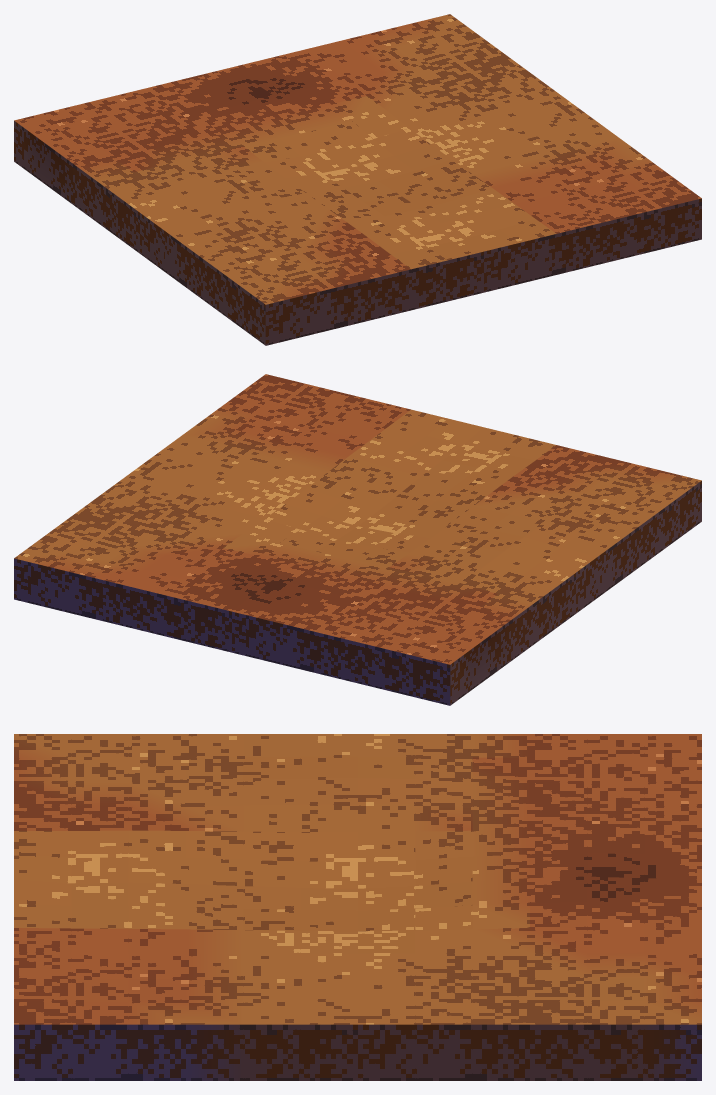
Rendered from planet.trail__end.glb.
3 renders of one model, top to bottom at view 1: azimuth 30°, elevation 25°; view 2: azimuth 150°, elevation 25°; view 3: azimuth 270°, elevation 25°, orthographic. The views are drawn at different scales.
Visible parts, largest first — view 1: kit_ground; view 2: kit_ground; view 3: kit_ground.
Part boxes in pixels (box(x1,y1,x2,y2)): kit_ground: box(14, 14, 701, 345); kit_ground: box(14, 374, 701, 705); kit_ground: box(14, 734, 701, 1080).
Bounding box in the file's own units: 8 × 0.7715 × 8.
Materials: 3 (3 with a texture image).
